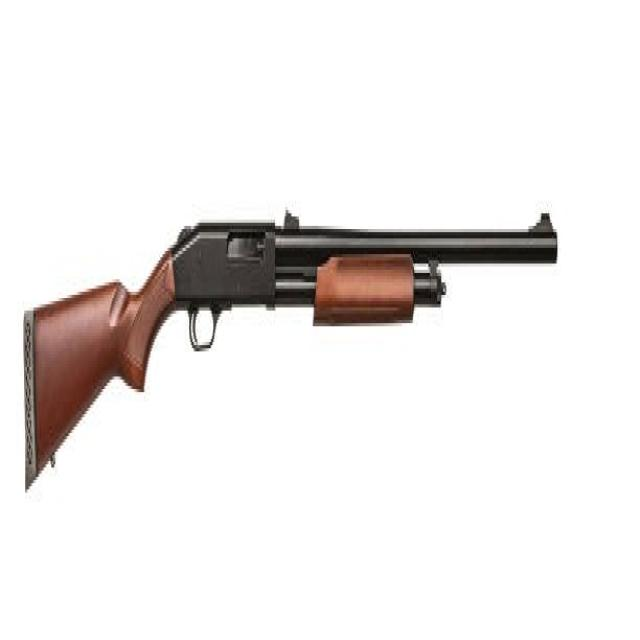rifle: (19, 204, 564, 509)
